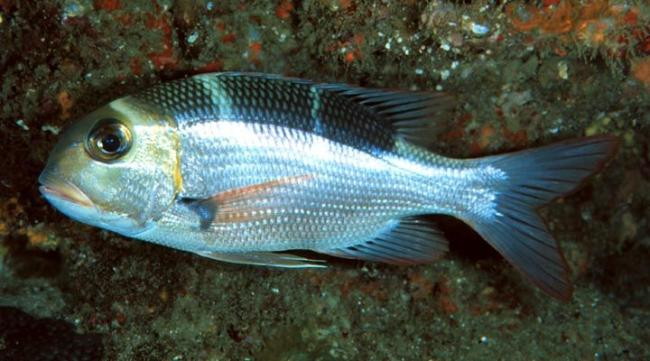fish: (39, 72, 618, 303)
